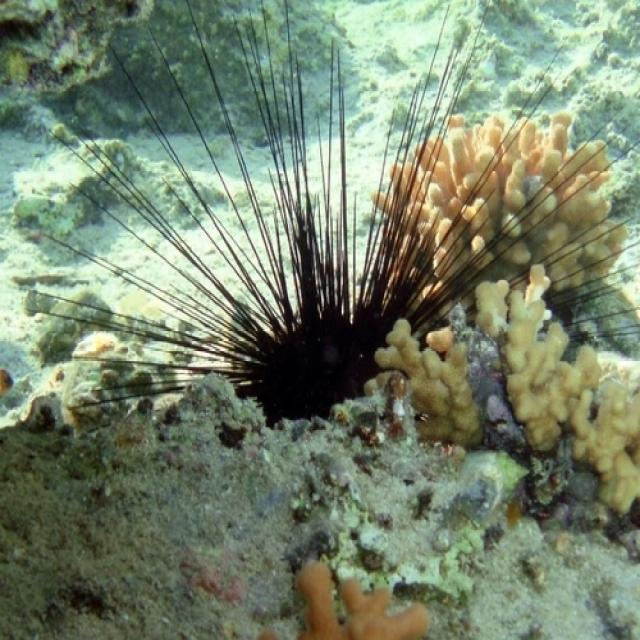Urchin: (15, 8, 640, 426)
